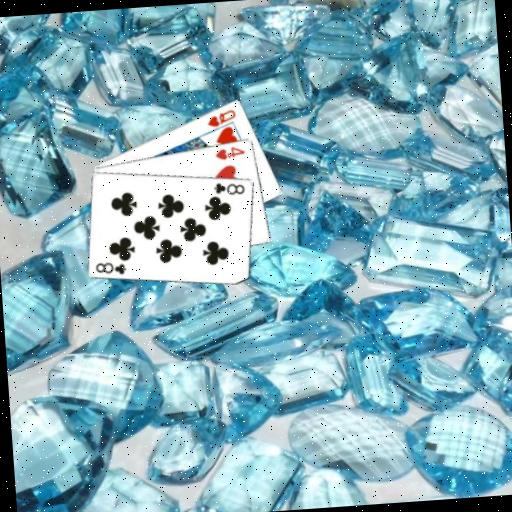4H: (212, 143, 247, 162)
8C: (211, 178, 247, 198), (93, 258, 129, 277)
QH: (204, 106, 239, 129)
